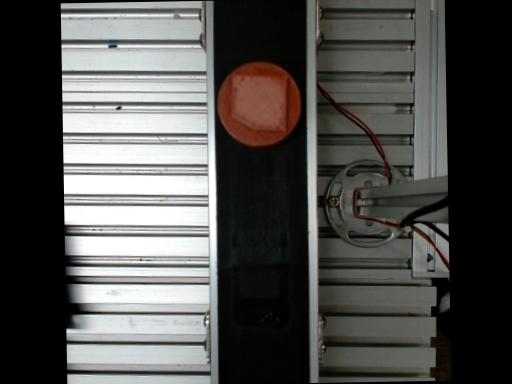Brown_Waper: (218, 61, 301, 145)
Not_Square: (231, 73, 288, 132)
